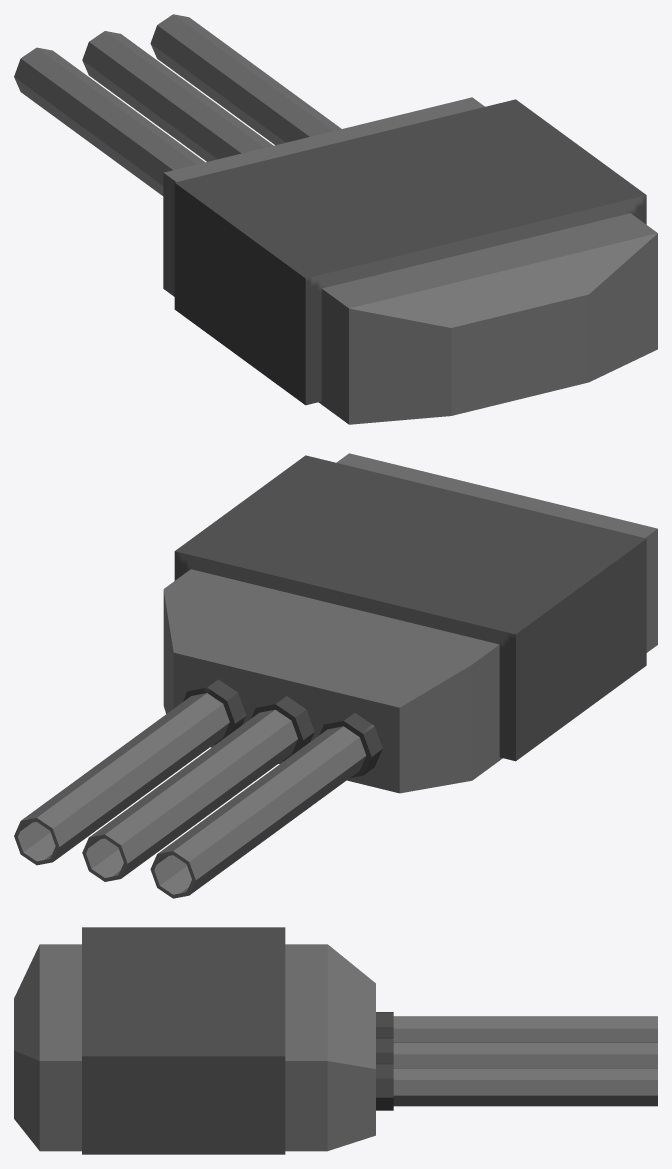
Rendered from EnemyWarshipTurret.fbx.
3 views of the same model, one above another, from view 1: azimuth 30°, elevation 25°; view 2: azimuth 150°, elevation 25°; view 3: azimuth 270°, elevation 25° (orthographic). The views are drawn at different scales.
Visible parts, largest first — view 1: Cube.001; view 2: Cube.001; view 3: Cube.001.
Part boxes in pixels (x1,y1,x2,y2): Cube.001: (14,14,657,424); Cube.001: (14,453,657,898); Cube.001: (14,927,657,1154).
Size of the model in its own units: 540 by 197 by 1138.
Materials: 1 (1 with a texture image).
